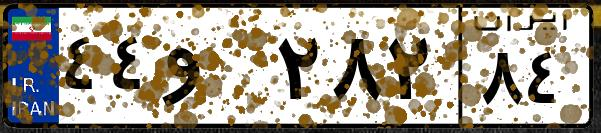2: (270, 28, 330, 110), (385, 28, 445, 110)
4: (57, 26, 110, 100), (525, 38, 570, 115), (110, 28, 158, 98)
8: (330, 28, 385, 110), (475, 38, 525, 113)
و: (158, 20, 270, 120)
